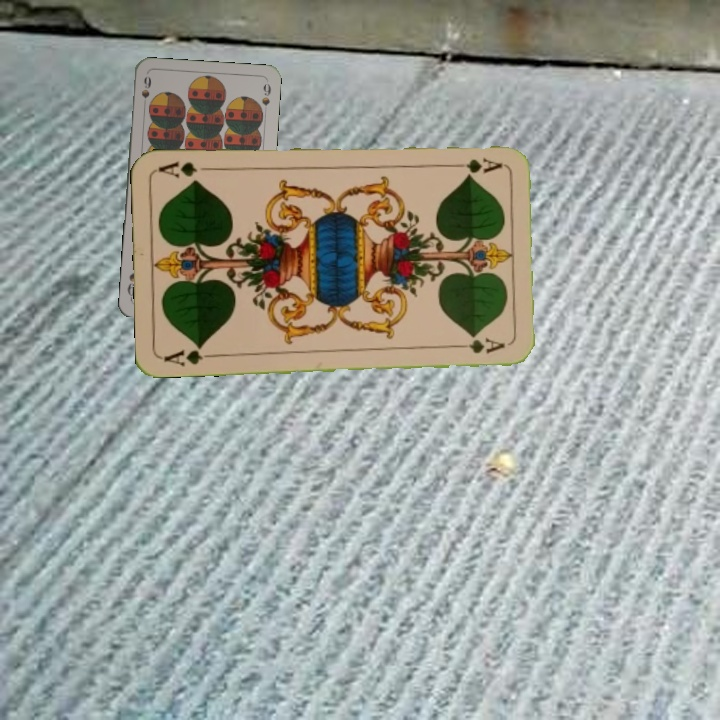GA: (160, 341, 219, 369), (445, 153, 504, 175)
S9: (137, 72, 154, 112)
